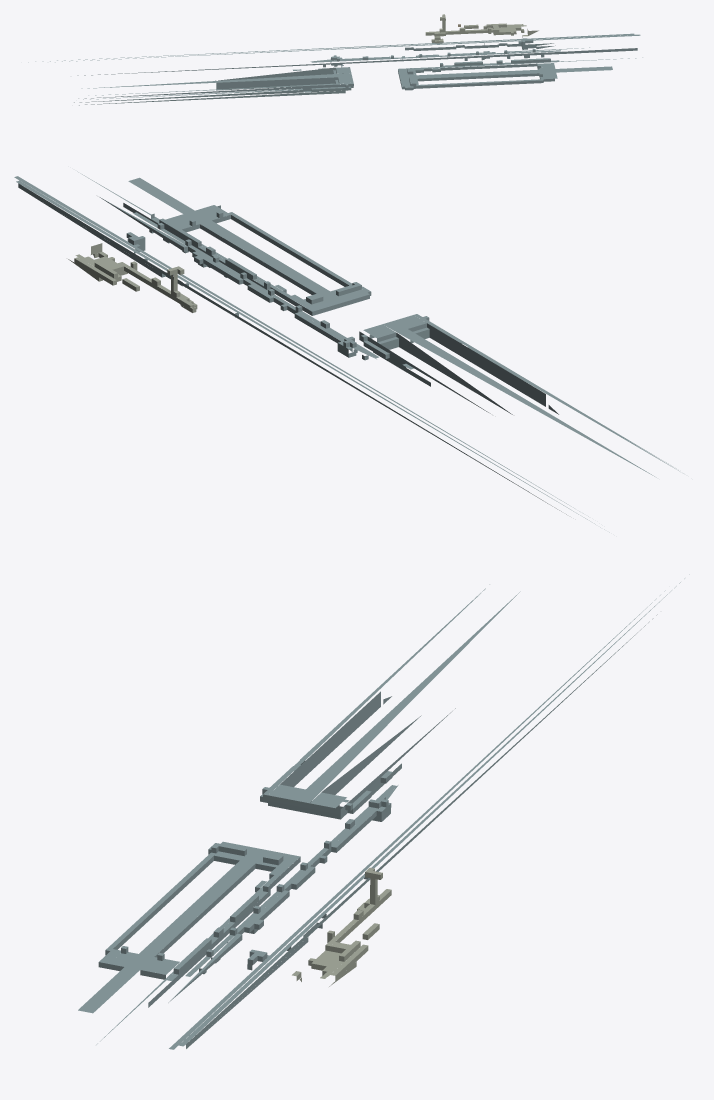
3 views of the same model, one above another, from view 1: azimuth 30°, elevation 25°; view 2: azimuth 150°, elevation 25°; view 3: azimuth 270°, elevation 25° (orthographic). The views are drawn at different scales.
Visible parts, largest first — view 1: measured-industrial; view 2: measured-industrial; view 3: measured-industrial.
Boxes of the visible parts, <box> form: measured-industrial: <box>28,14,642,105</box>; measured-industrial: <box>14,171,683,532</box>; measured-industrial: <box>78,574,689,1049</box>.
Bounding box in the file's own units: 315 × 15.88 × 177.
